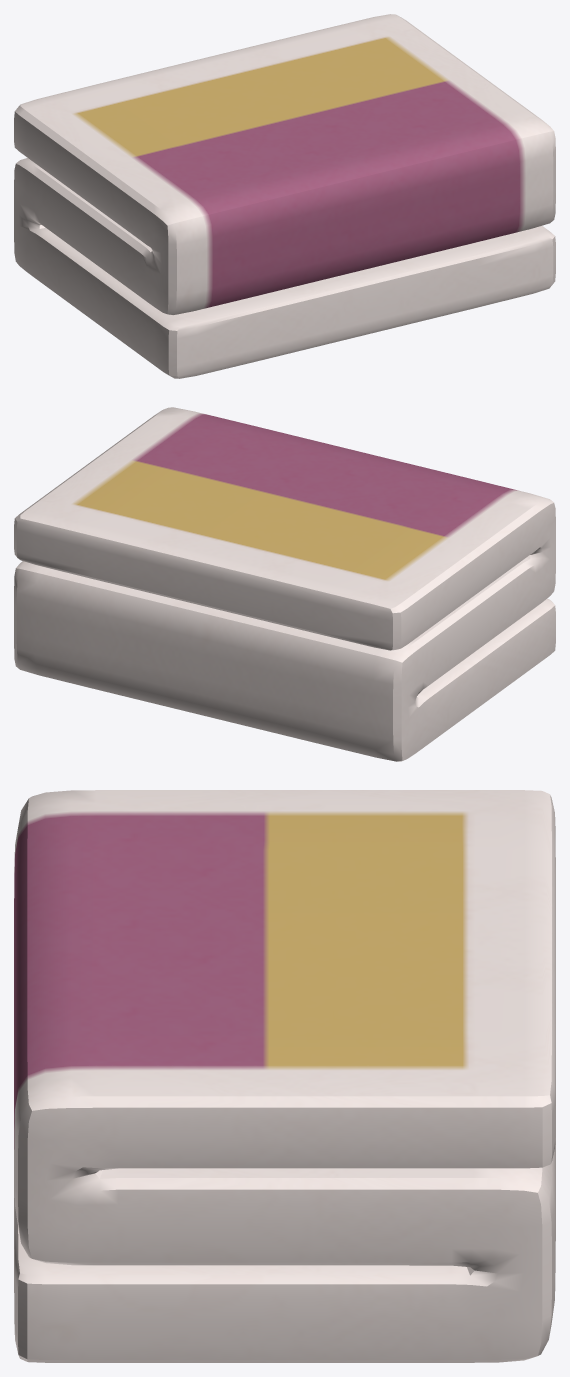
File: organized_blanket.fbx
3 views of the same model, one above another, from view 1: azimuth 30°, elevation 25°; view 2: azimuth 150°, elevation 25°; view 3: azimuth 270°, elevation 25° (orthographic). The views are drawn at different scales.
Visible parts, largest first — view 1: Cube.388; view 2: Cube.388; view 3: Cube.388.
Part boxes in pixels (box(x1,y1,x2,y2)): Cube.388: box(14, 14, 555, 378); Cube.388: box(14, 407, 555, 761); Cube.388: box(14, 790, 555, 1362).
Bounding box in the file's own units: 83.67 × 33.59 × 60.55.
